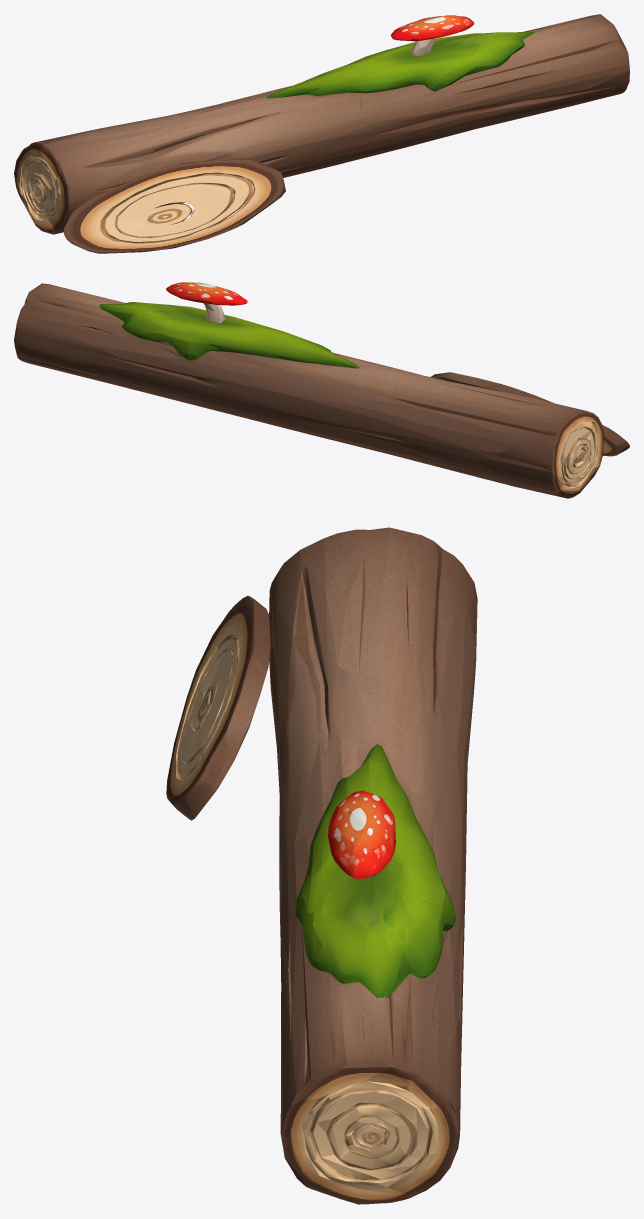
The model's file is log.glb.
3 renders of one model, top to bottom at view 1: azimuth 30°, elevation 25°; view 2: azimuth 150°, elevation 25°; view 3: azimuth 270°, elevation 25°, orthographic. The views are drawn at different scales.
Visible parts, largest first — view 1: geometry_0; view 2: geometry_0; view 3: geometry_0.
Boxes of the visible parts, <box> form: geometry_0: <box>14,14,629,253</box>; geometry_0: <box>14,282,629,498</box>; geometry_0: <box>166,527,477,1204</box>.
Size of the model in its own units: 2.5 by 0.5 by 0.6.
Materials: 1 (1 with a texture image).
